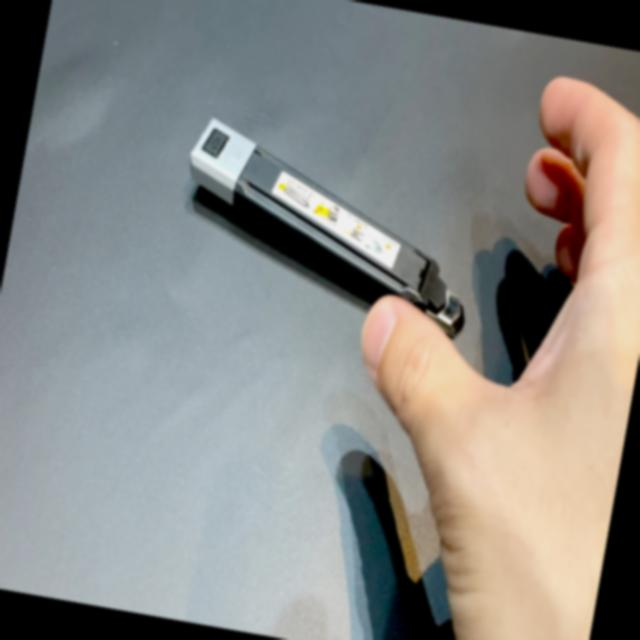cutter: (129, 58, 640, 640)
